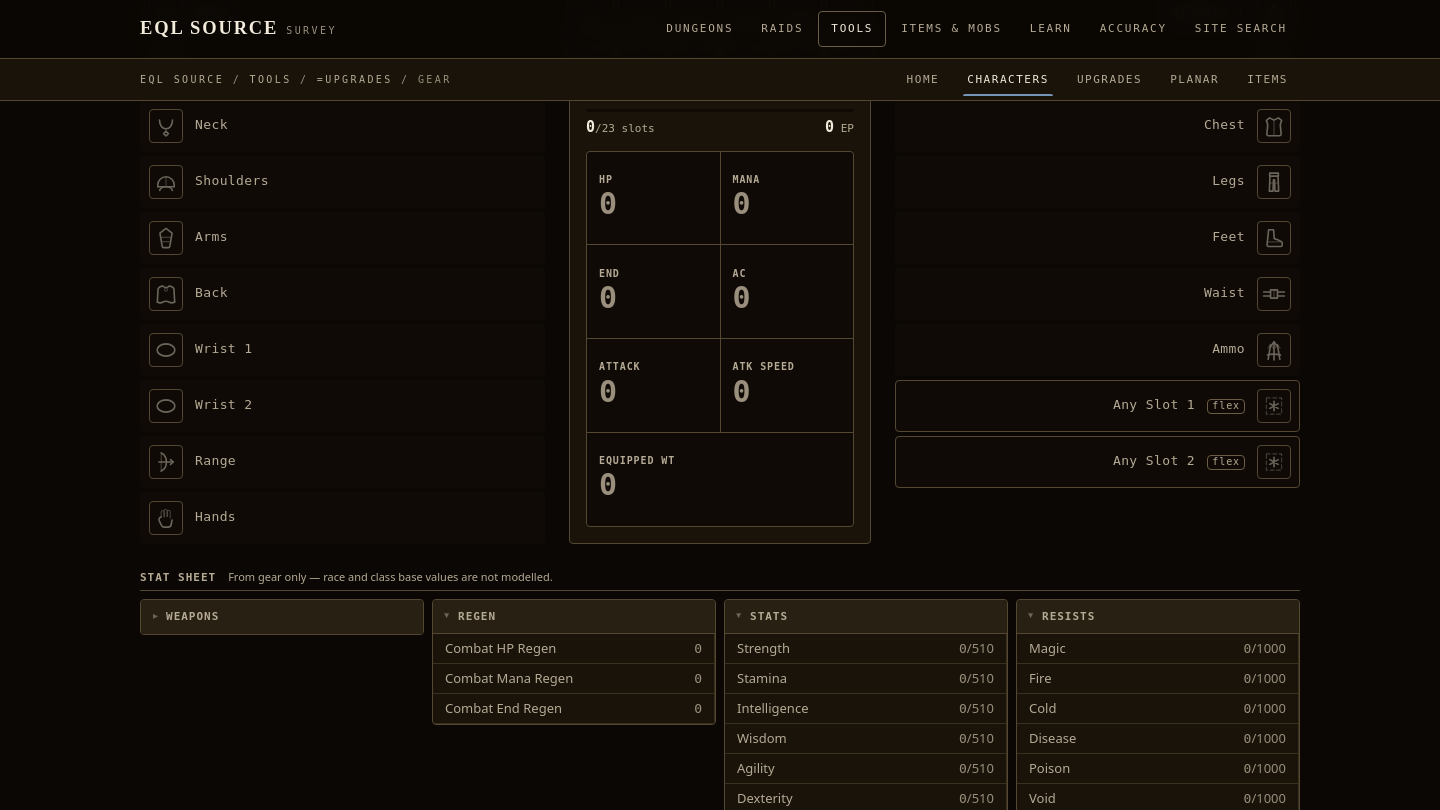
it: the slot picker › offers wearable items to an Any Slot position
The image size is (1440, 810).
(page scrolled)
Click the button "Any Slot 1 flex" at (1154, 405), box [904,380,1299,430]
(page scrolled)
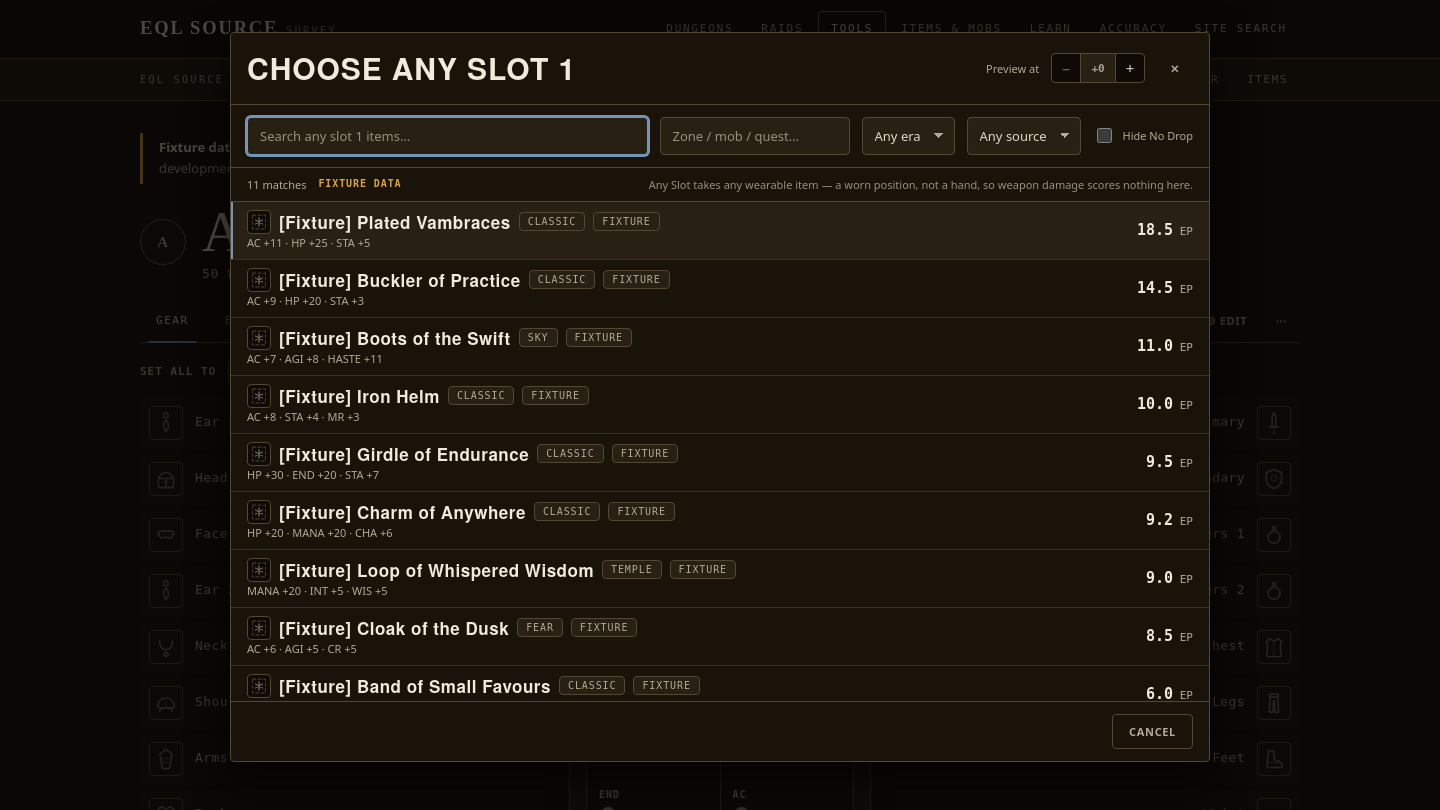
Result: the dialog shows "Any Slot takes any wearable item" at [649,177,1193,192]
